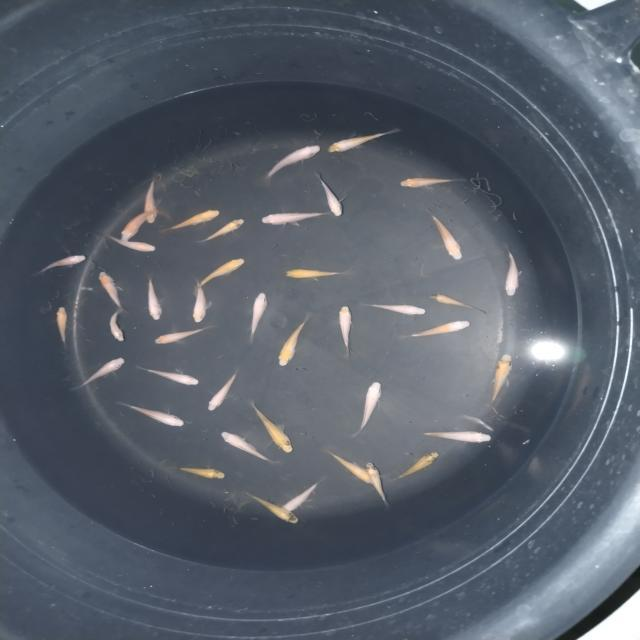nila: (244, 398, 296, 455), (326, 122, 405, 158), (260, 141, 324, 184), (112, 202, 175, 242), (244, 486, 302, 528), (425, 204, 467, 262), (214, 428, 280, 464), (276, 310, 314, 370), (68, 354, 127, 392), (116, 399, 188, 429), (309, 173, 357, 218), (390, 448, 442, 488), (159, 206, 224, 238), (325, 448, 375, 488), (352, 378, 386, 436), (276, 476, 325, 516), (486, 350, 520, 406), (136, 360, 202, 388), (200, 214, 250, 250), (32, 249, 88, 281), (94, 267, 130, 315), (196, 254, 250, 286), (361, 457, 394, 509), (427, 290, 493, 316), (95, 229, 158, 256), (258, 208, 333, 230), (205, 369, 242, 412), (401, 317, 473, 338), (418, 426, 498, 444), (152, 324, 212, 348), (360, 296, 427, 317), (246, 288, 272, 342), (166, 461, 226, 482), (281, 265, 354, 282), (336, 300, 357, 358), (142, 171, 162, 231), (142, 274, 166, 323), (504, 242, 524, 300), (394, 176, 471, 190), (190, 279, 213, 323), (105, 308, 129, 344), (55, 300, 70, 350)
